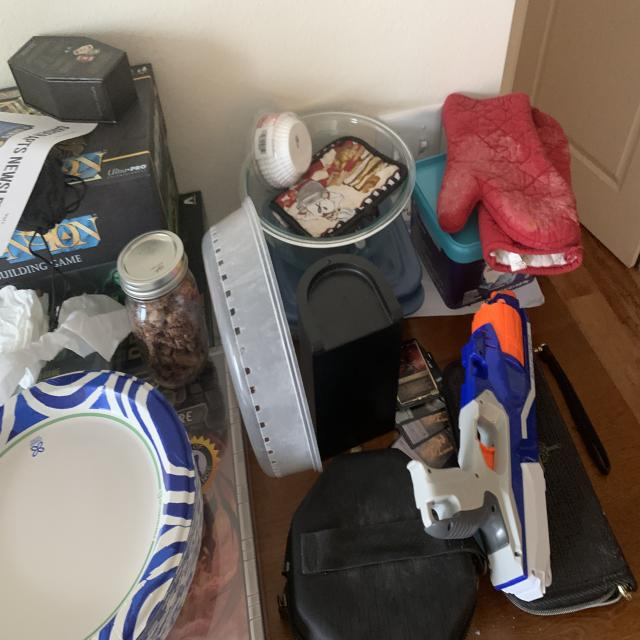nerf-maverik: (398, 264, 571, 608)
